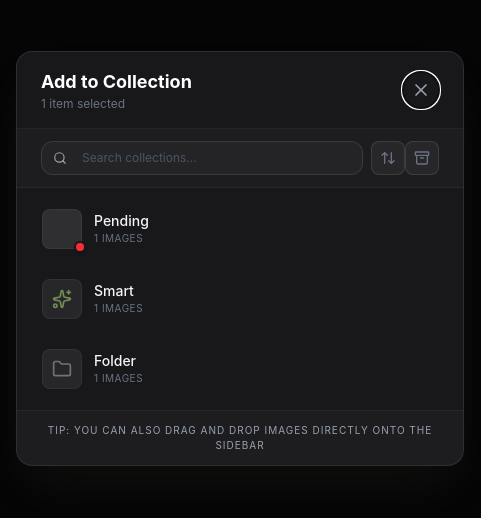
Test: AddToCollectionModal thumbnail hydration states › renders colored skeletons and smart, folder, and archived fallbacks
Expected: the element with test id "collection-thumbnail-skeleton" is shown, [42, 208, 82, 248]
Expected: the number of elements with test id "collection-thumbnail-fallback" is 2, [42, 278, 82, 318]; [42, 348, 82, 388]
Click the button named "Show Archived Collections" at x=422, y=158, box [405, 140, 439, 174]
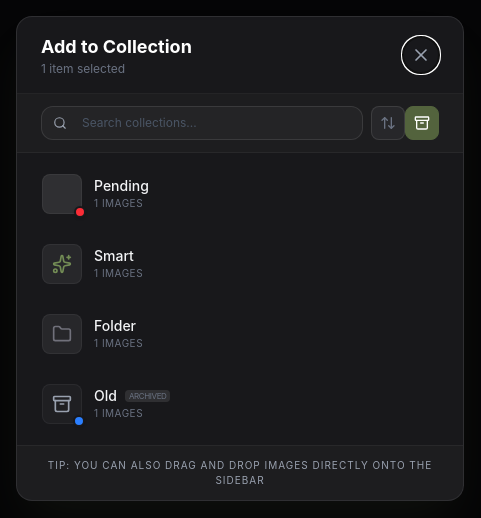
Result: the number of elements with test id "collection-thumbnail-fallback" is 3 at [42, 244, 82, 284]; [42, 314, 82, 354]; [42, 384, 82, 424]
